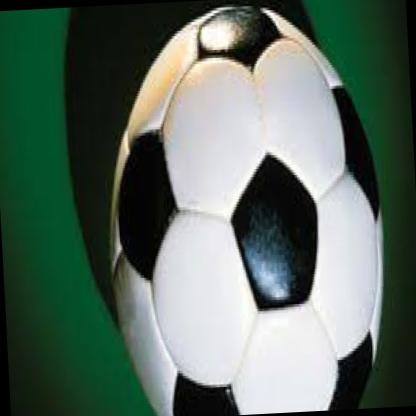ball: (95, 0, 389, 416)
